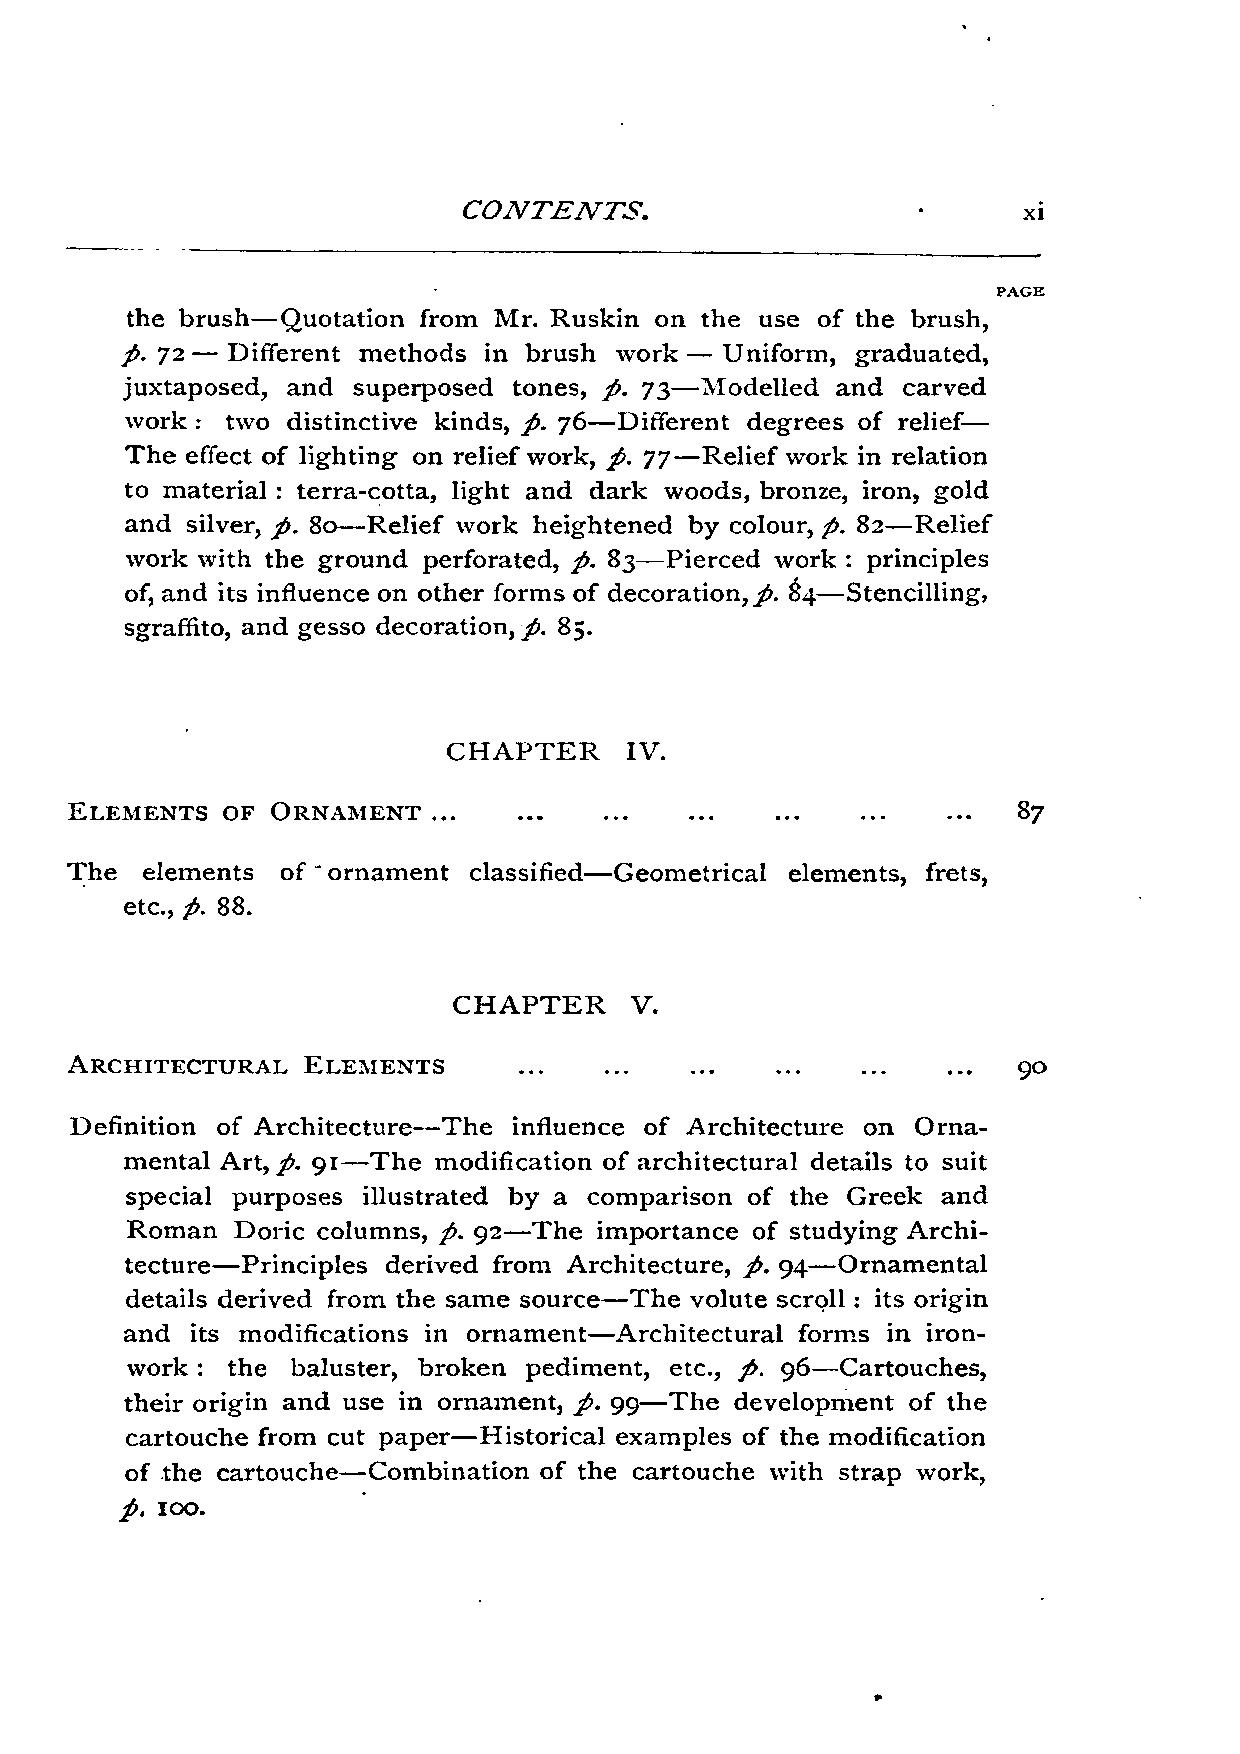TOC_chapter: (54, 1041, 990, 1527), (113, 298, 990, 654), (48, 786, 998, 923), (432, 727, 667, 774), (446, 978, 662, 1027)
TOC_pagenumber: (1004, 1041, 1057, 1084), (1015, 788, 1044, 845)
chapter: (458, 187, 654, 229)
